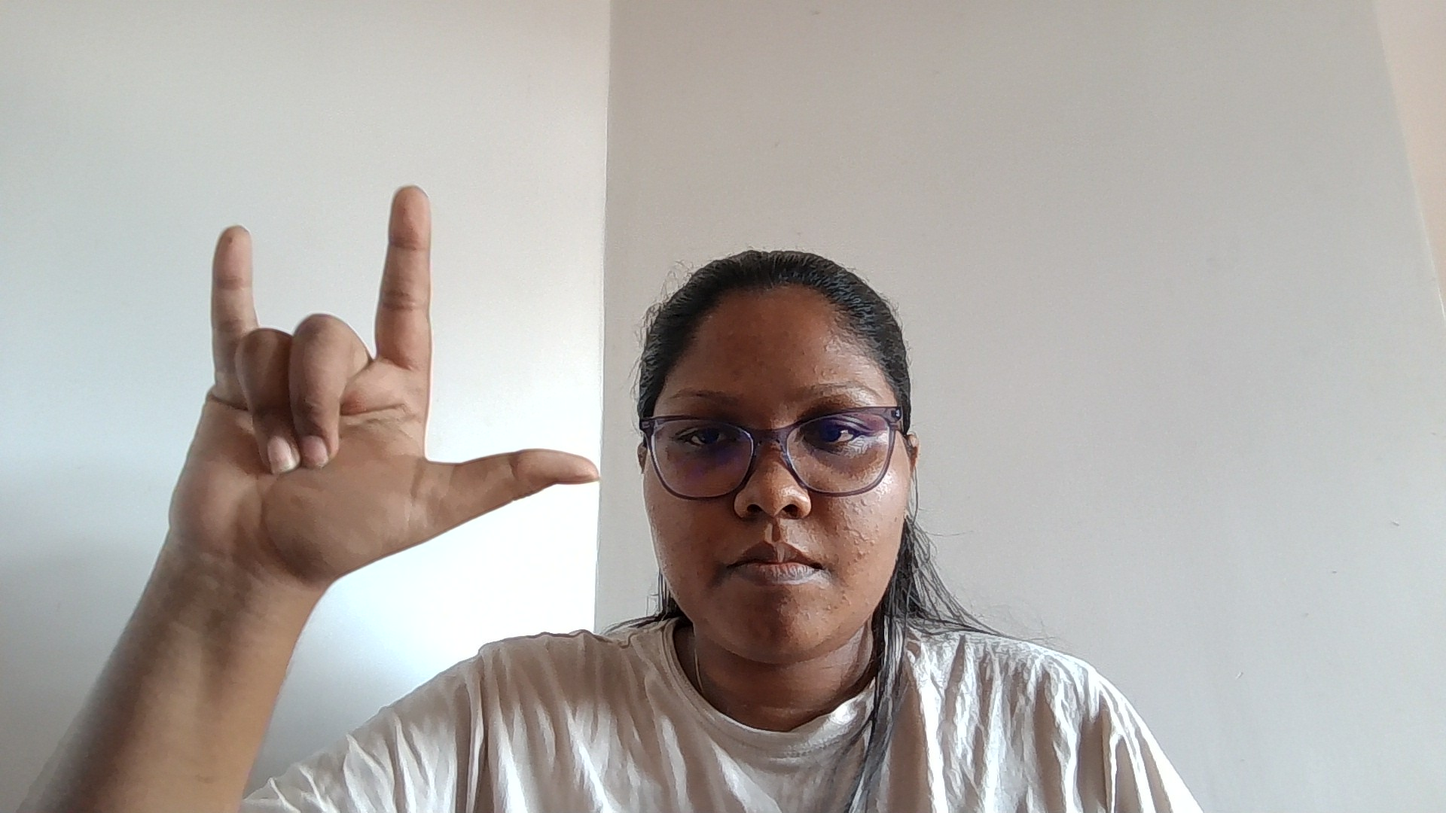I Love You: (171, 164, 595, 653)
